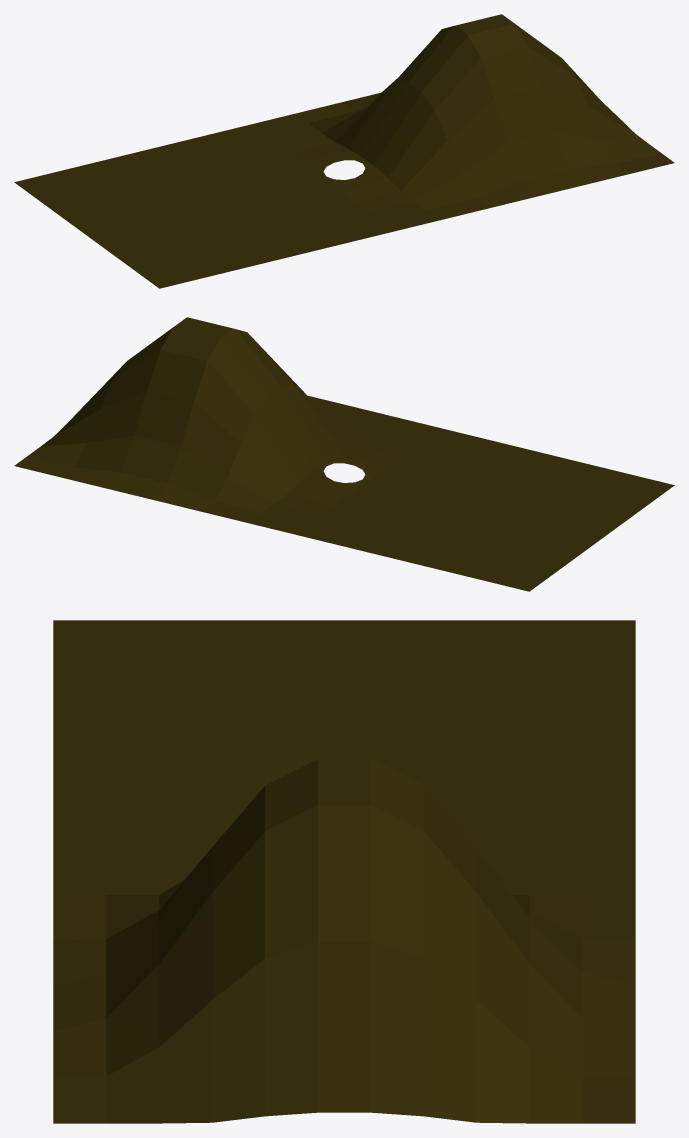
The model's file is ground.fbx.
The picture shows the model from 3 angles, top to bottom: view 1: azimuth 30°, elevation 25°; view 2: azimuth 150°, elevation 25°; view 3: azimuth 270°, elevation 25°; orthographic projection. The views are drawn at different scales.
Parts seen in each view (by area): view 1: Plane; view 2: Plane; view 3: Plane.
Boxes of the visible parts, left/top/right/bottom form: Plane: left=14, top=14, right=674, bottom=288; Plane: left=14, top=317, right=674, bottom=591; Plane: left=53, top=620, right=635, bottom=1123.
Size of the model in its own units: 2920 by 615 by 1428.
